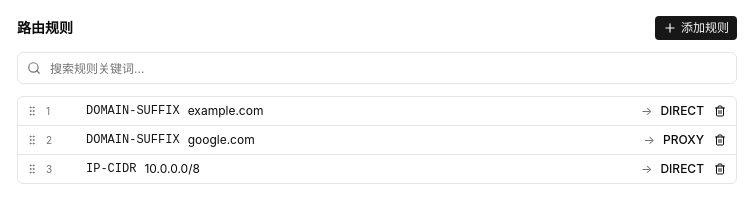
RulesEditor component › should show a dedicated empty search state
Type "not-present" into the search field with placeholder "搜索规则关键词..." at (377, 68), box [17,52,737,84]
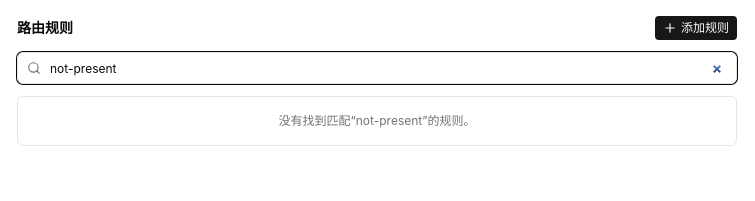
Now the text "没有找到匹配“not-present”的规则。" is shown, box [278,113,476,128]
